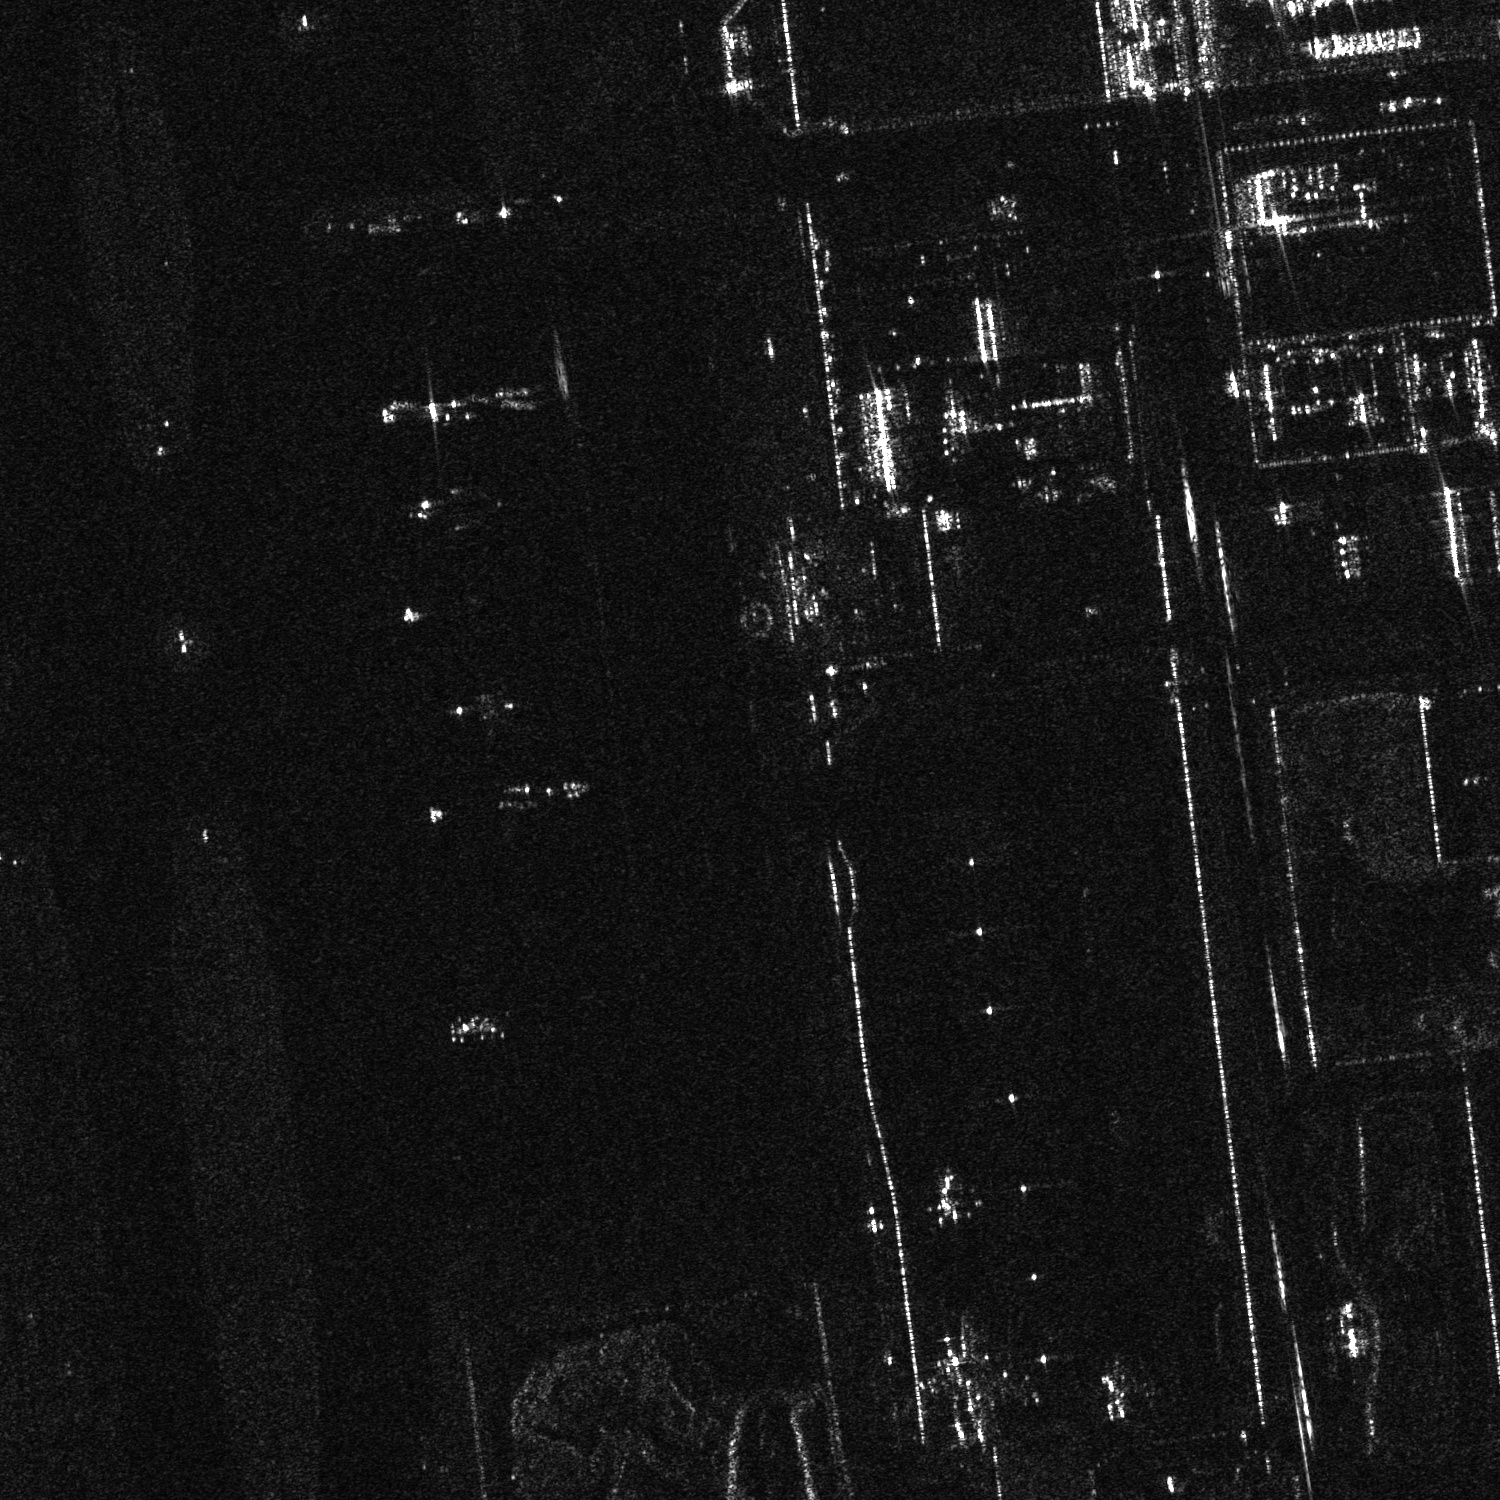A220: (1082, 1364, 1143, 1424)
other: (911, 1323, 1032, 1451), (918, 1169, 982, 1229)
